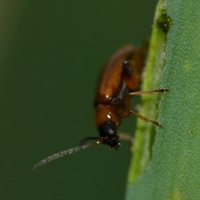insect: (33, 46, 144, 169)
